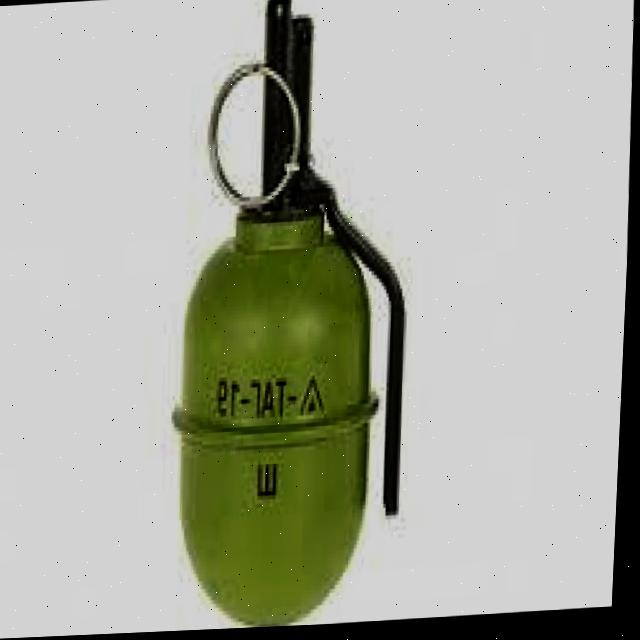grenade: (165, 0, 418, 633)
